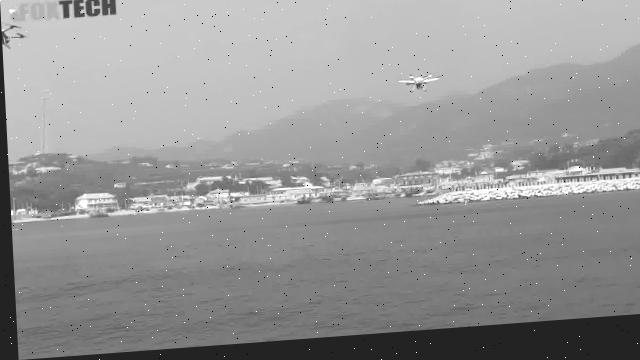drone: (389, 72, 450, 102)
